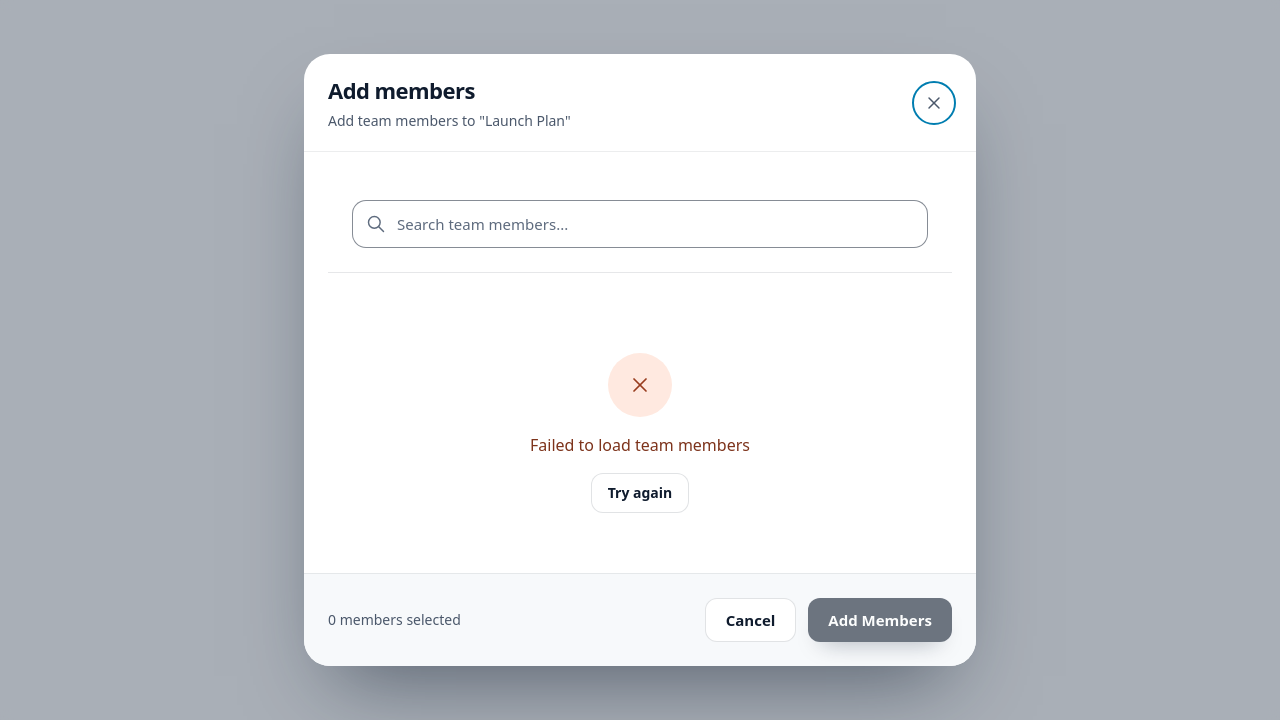
AddMemberModal states with nothing to list › actually searches again when Try again is pressed
Expected: the text "Failed to load team members" is shown, [530,434,750,456]
Click the button "Try again" at (640, 493), box [591,473,689,513]
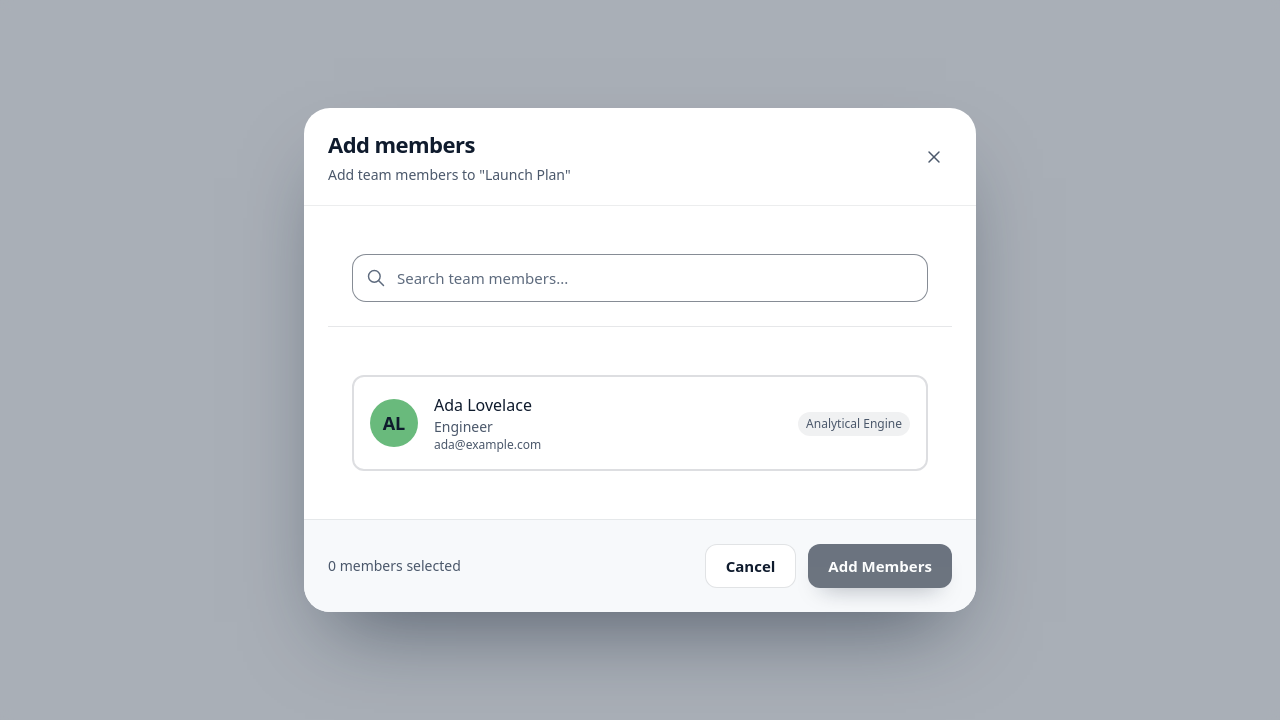
Expected: the heading "Ada Lovelace" is shown, [434,394,532,416]
Expected: the text "Failed to load team members" is gone
